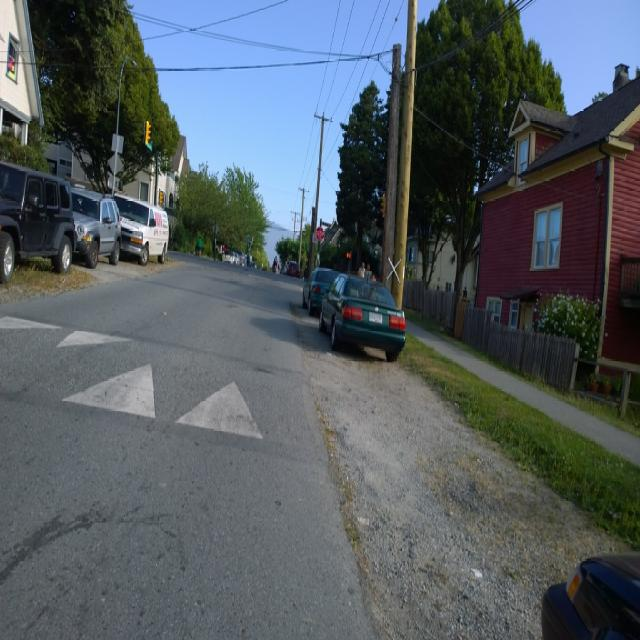car: (320, 273, 405, 360)
